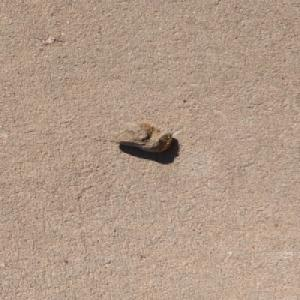Rock: (103, 119, 173, 152)
